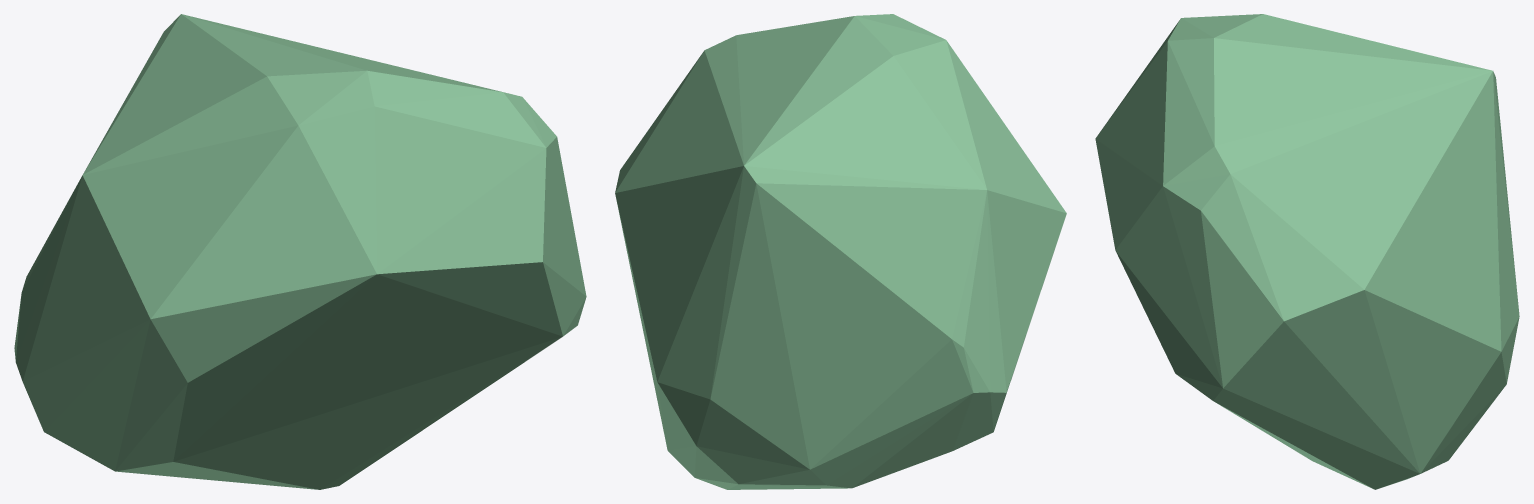
File: food_produce_garlic_d01.glb
The picture shows the model from 3 angles, left to right: view 1: azimuth 30°, elevation 25°; view 2: azimuth 150°, elevation 25°; view 3: azimuth 270°, elevation 25°; orthographic projection. The views are drawn at different scales.
Visible parts, largest first — view 1: geometry_0; view 2: geometry_0; view 3: geometry_0.
Boxes of the visible parts, box(x1,y1,x2,y2) form: geometry_0: box(14, 14, 586, 489); geometry_0: box(615, 14, 1066, 489); geometry_0: box(1095, 14, 1519, 489).
Bounding box in the file's own units: 0.4674 × 0.4339 × 0.3928.
